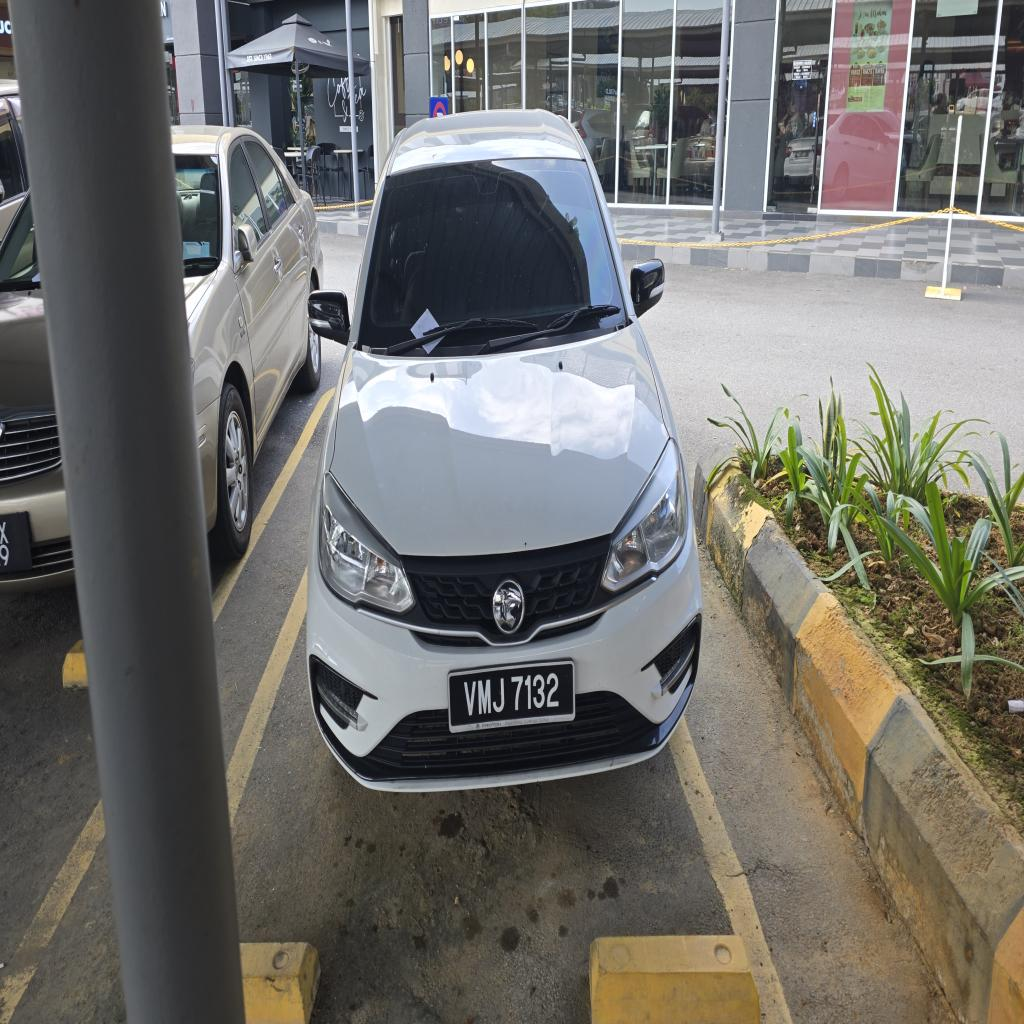car: (307, 111, 701, 790)
car plate: (449, 663, 574, 732)
